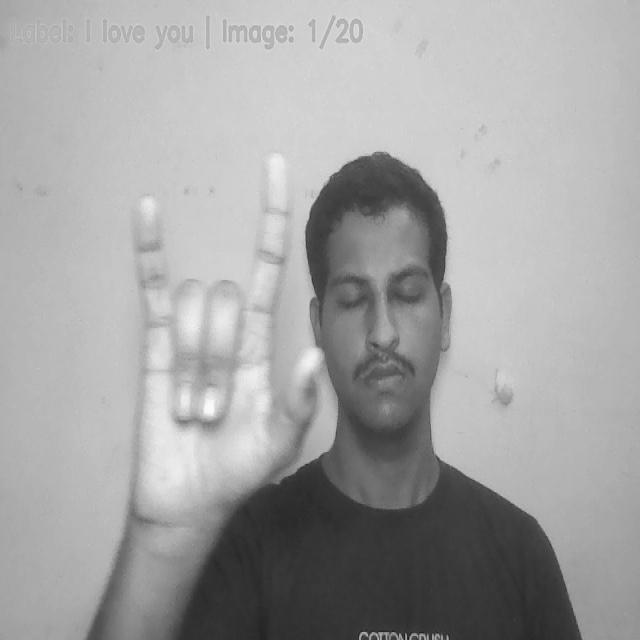I love you: (111, 144, 318, 540)
